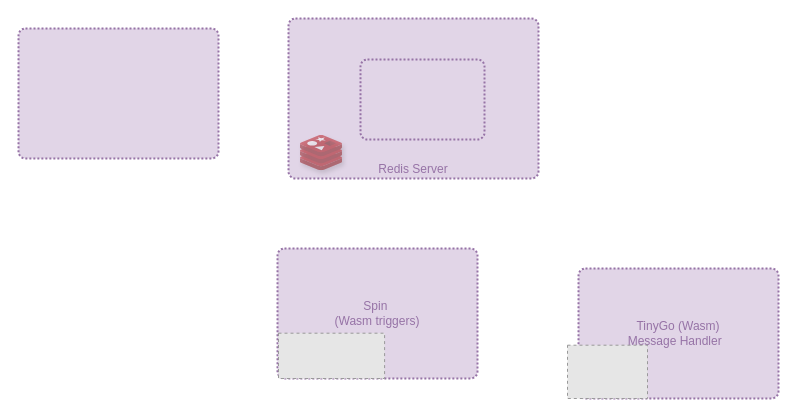
This 796x416 diagram has some shape labels left out. Grey dashed boxes stand in for pictures. The shapes that lost their labels are listed below. From the top down, each one's centre as x and y in pixels, then its label:
At point 118,93: "Message Publisher".
At point 422,99: "Redis channel (hello-messages)".
